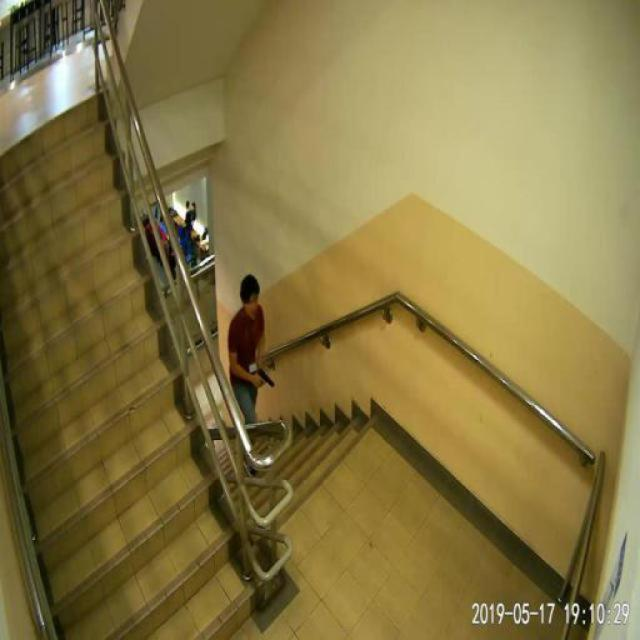pistol: (255, 366, 273, 386)
